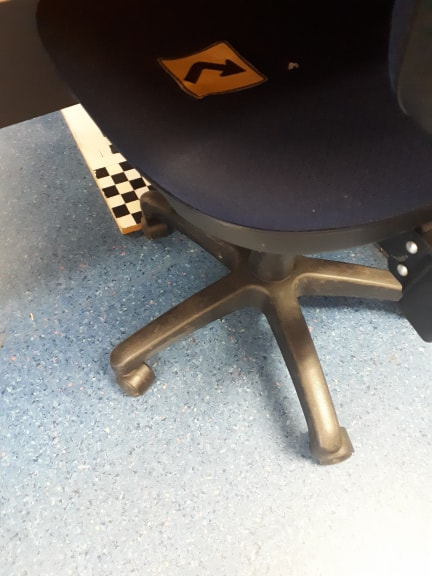right: (158, 29, 270, 106), (176, 40, 291, 92), (222, 46, 261, 91)
